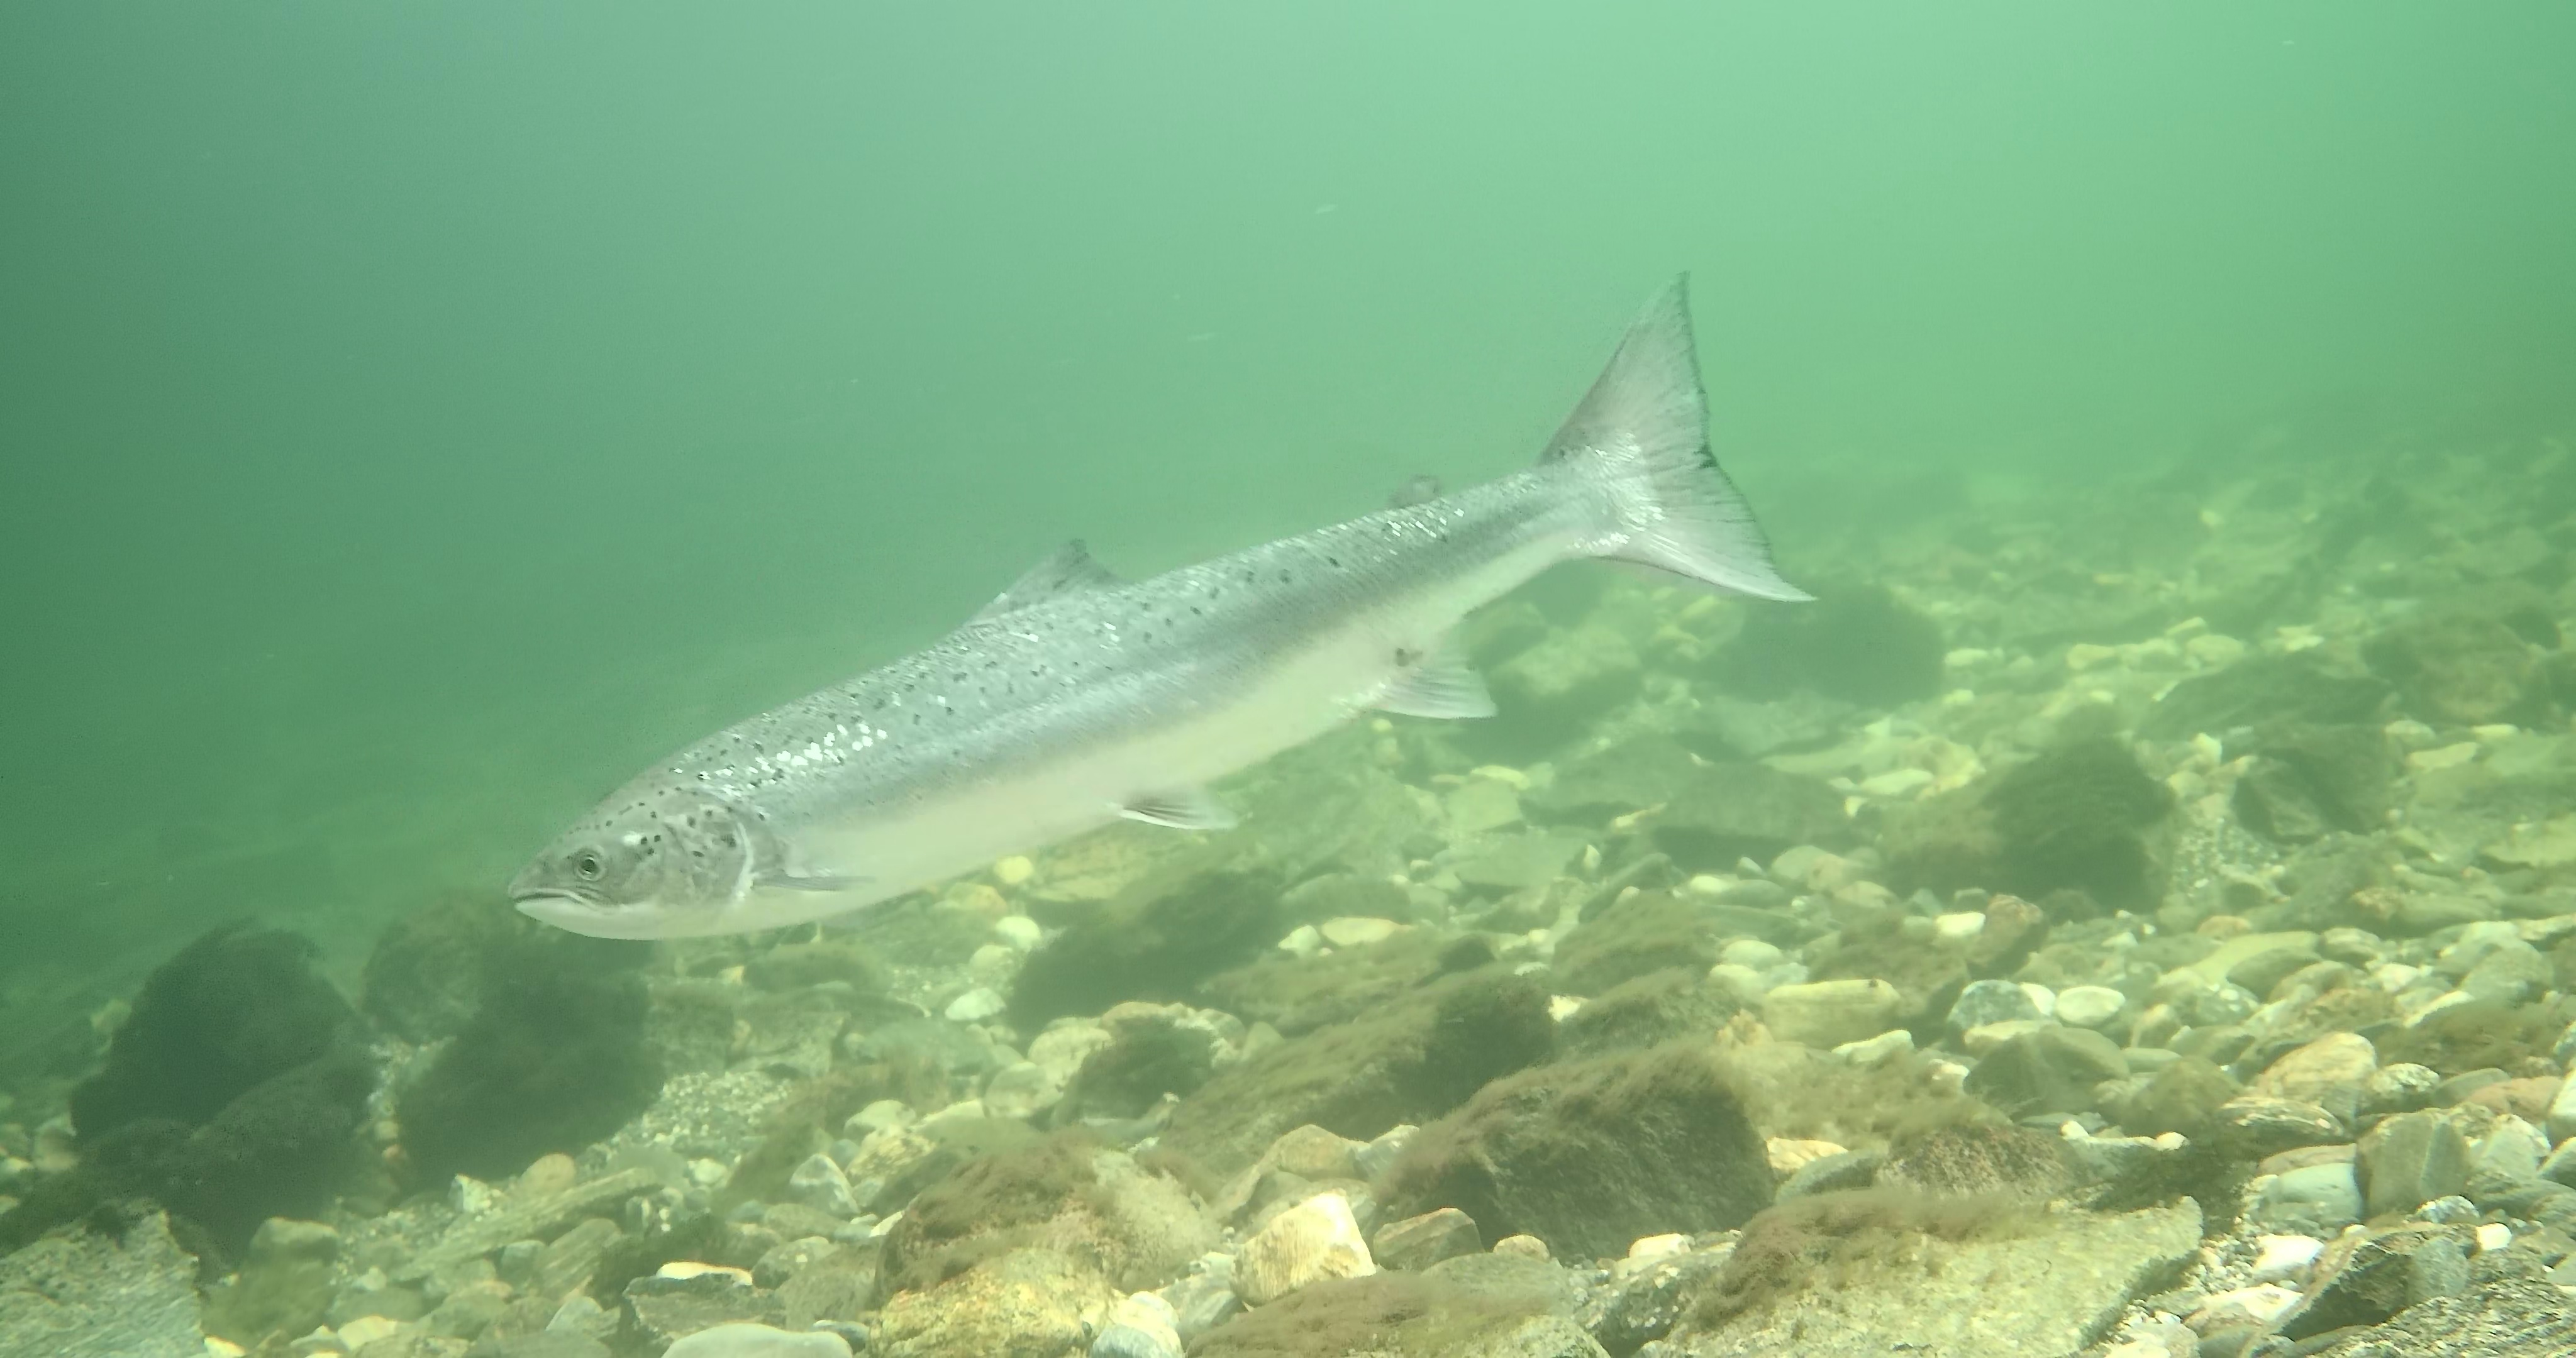salmon: (497, 261, 1823, 944)
